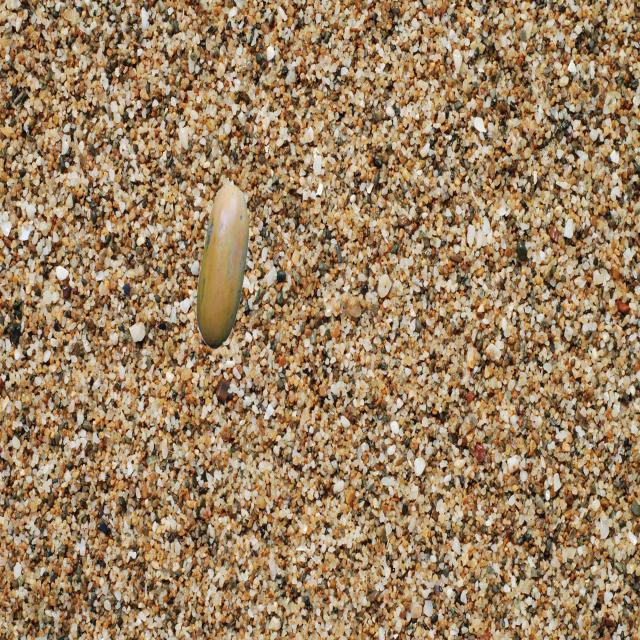Pepaya rippen: (195, 182, 256, 352)
